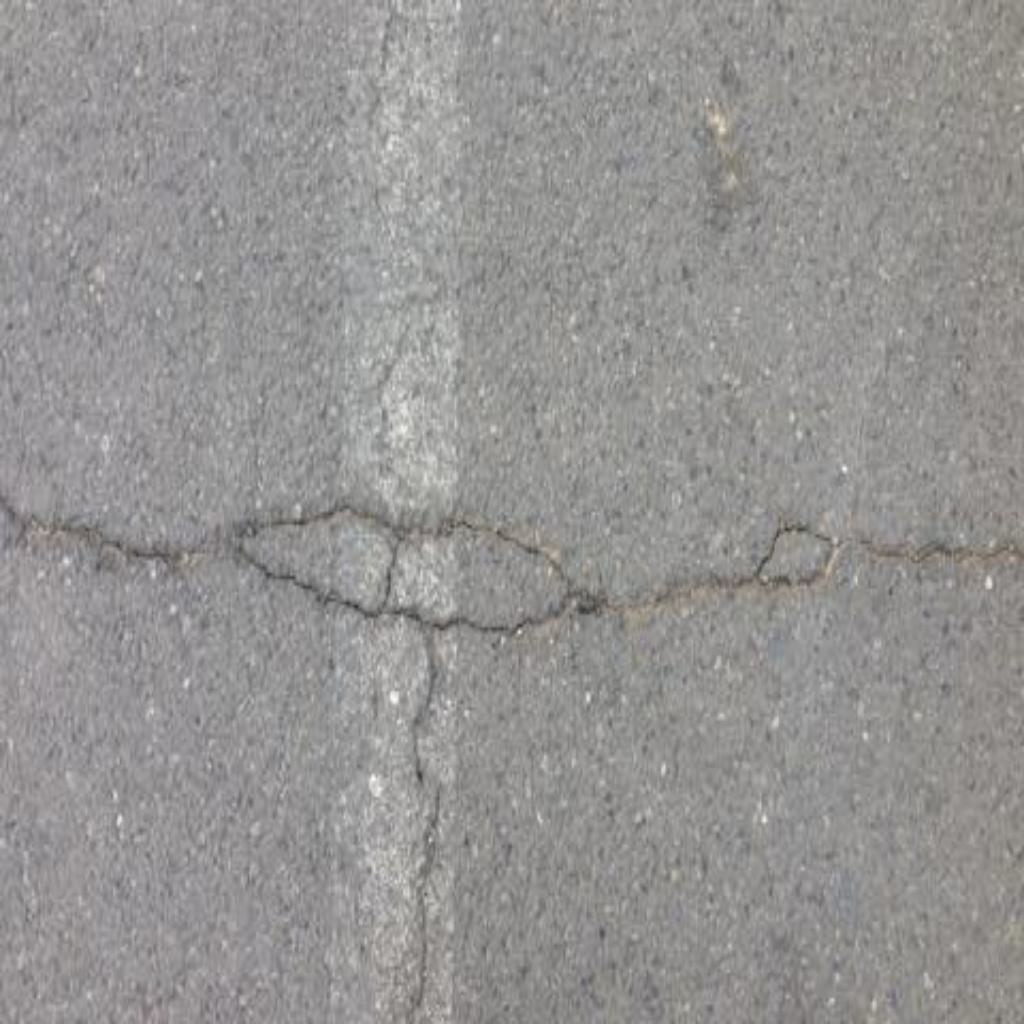Crack: (1, 504, 1024, 639), (397, 630, 445, 1024)
